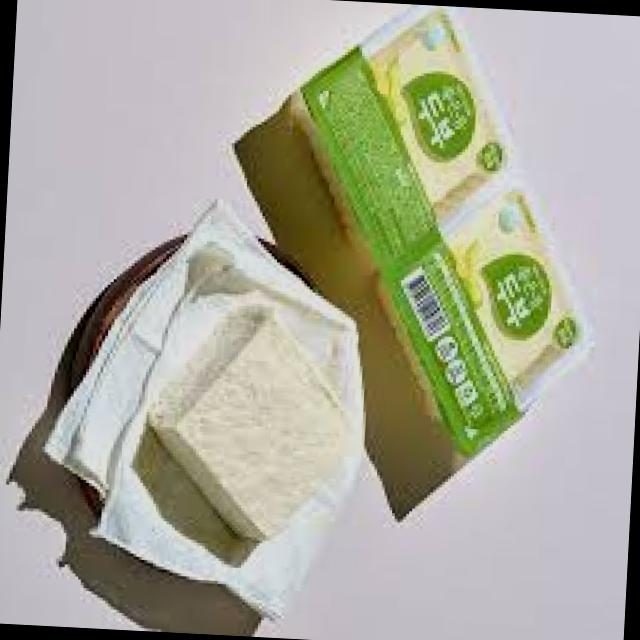tofu: (342, 14, 574, 448), (136, 322, 364, 561)
